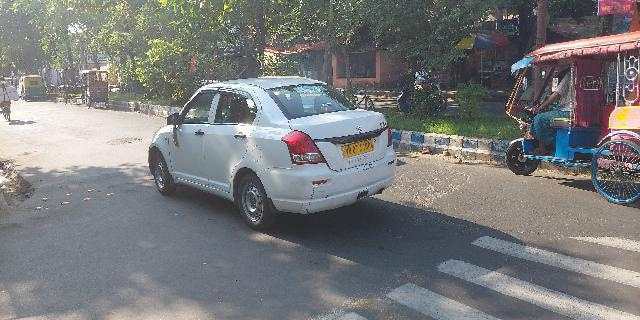Autorickshaw: (75, 66, 113, 109)
Car: (143, 73, 408, 228)
Rickshaw: (500, 29, 640, 209)
